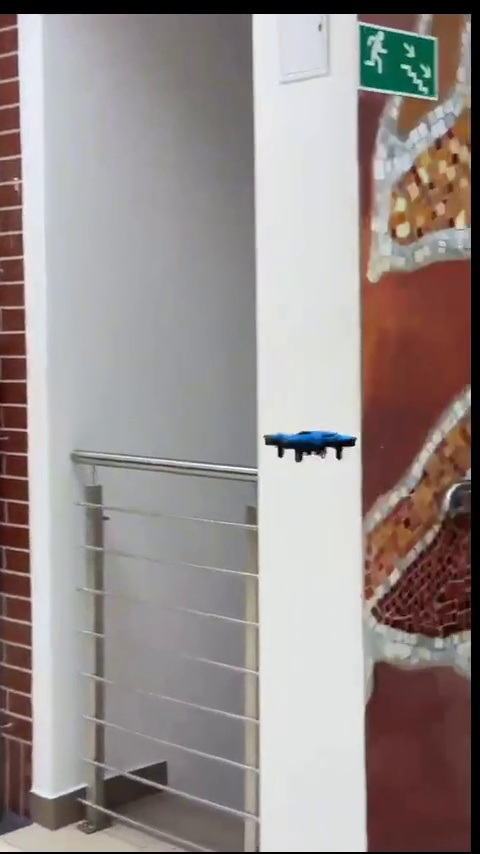drone: (261, 429, 358, 463)
